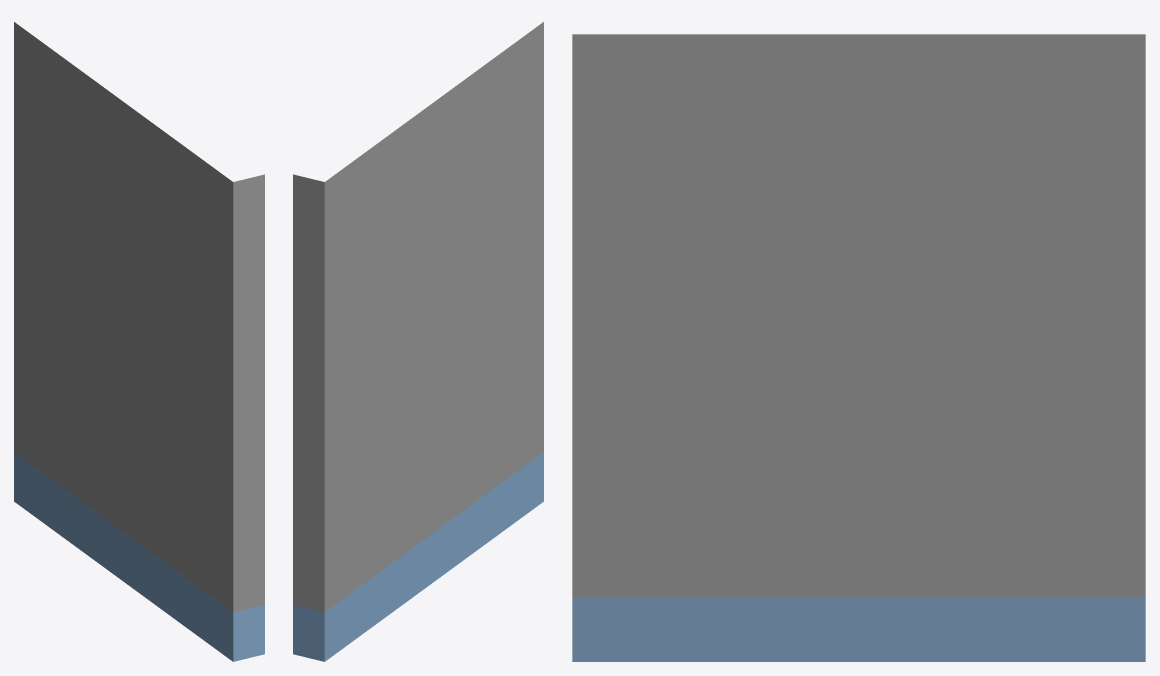
File: wall.glb
3 views of the same model, side by side, from view 1: azimuth 30°, elevation 25°; view 2: azimuth 150°, elevation 25°; view 3: azimuth 270°, elevation 25° (orthographic). The views are drawn at different scales.
Visible parts, largest first — view 1: Cube; view 2: Cube; view 3: Cube.
Boxes of the visible parts, x1=… form: Cube: x1=14, y1=22, x2=264, y2=661; Cube: x1=293, y1=22, x2=543, y2=661; Cube: x1=572, y1=34, x2=1145, y2=661.
Bounding box in the file's own units: 1 × 14.5 × 12.
